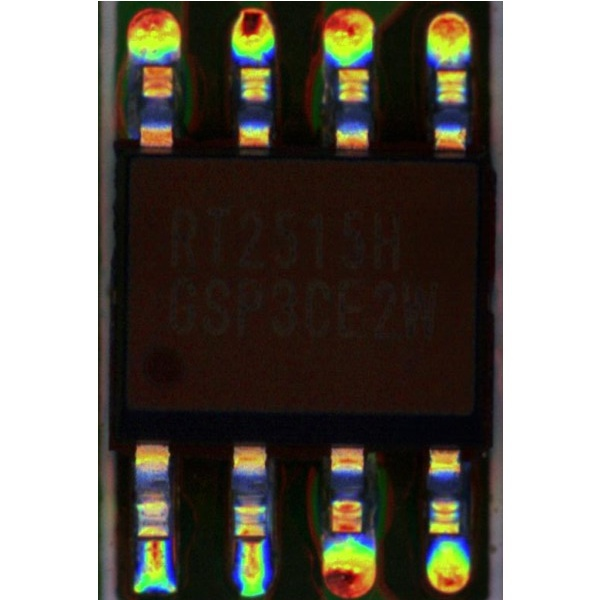Bad_podu: (144, 524, 168, 565), (242, 521, 258, 565)
